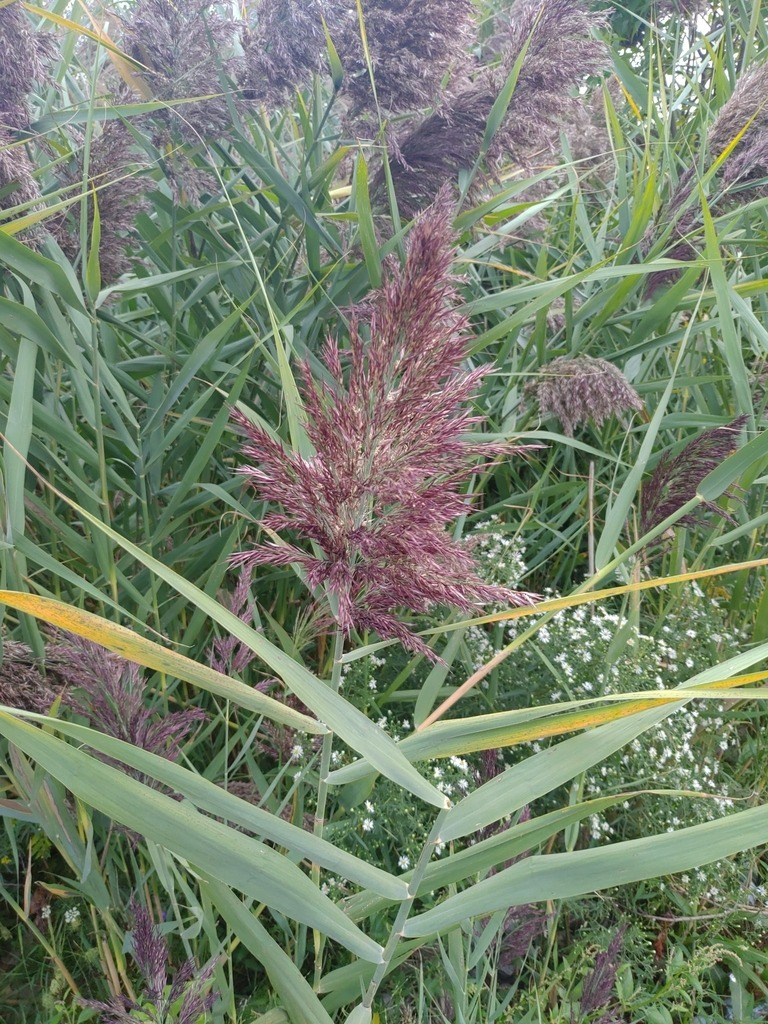common reed: (3, 4, 764, 1018)
